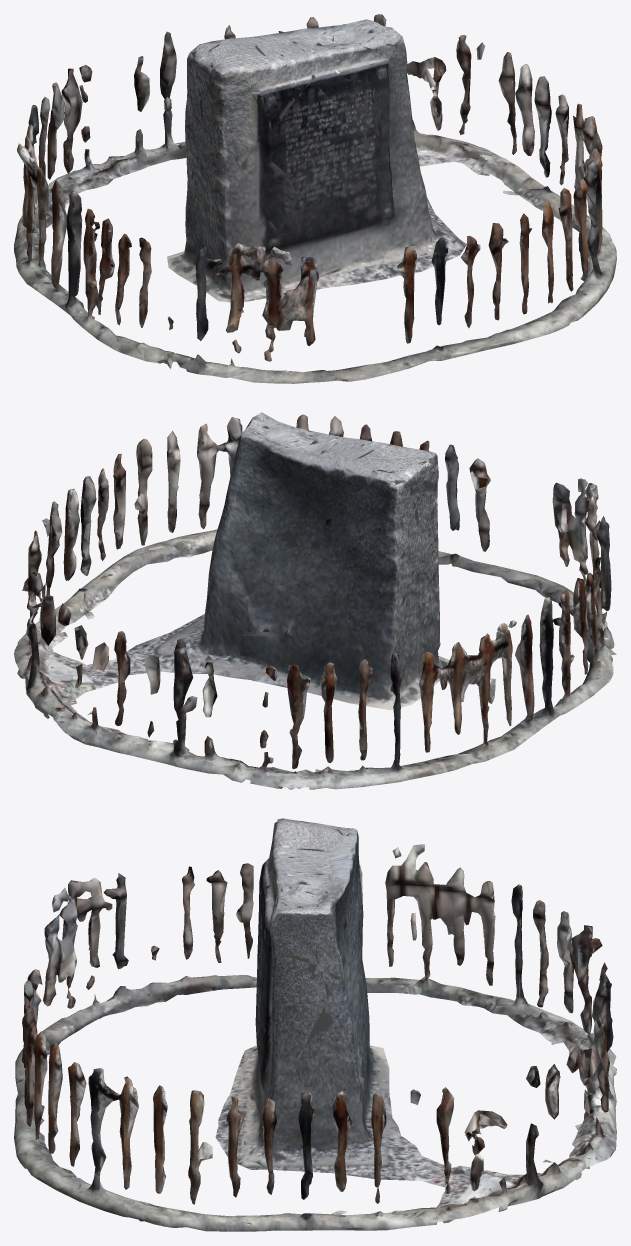
Rendered from reiche.glb.
3 views of the same model, one above another, from view 1: azimuth 30°, elevation 25°; view 2: azimuth 150°, elevation 25°; view 3: azimuth 270°, elevation 25° (orthographic). The views are drawn at different scales.
Bounding box in the file's own units: 2.66 × 1.15 × 2.69.
1 material, 1 textured.
